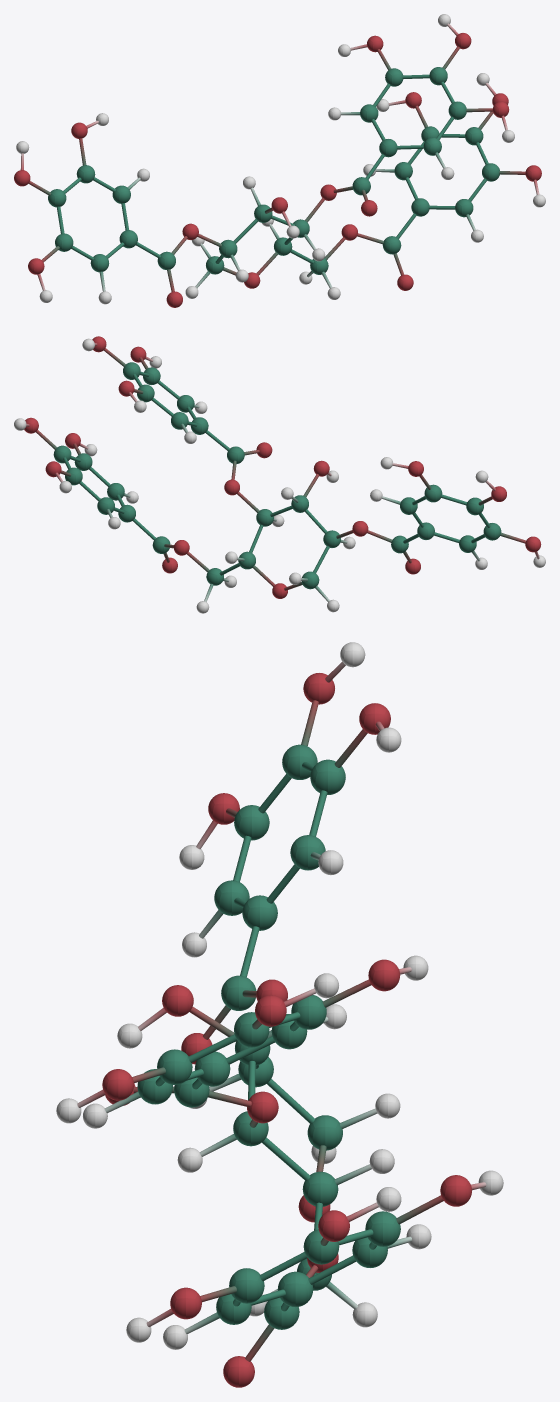
File: Maplexin.fbx
3 renders of one model, top to bottom at view 1: azimuth 30°, elevation 25°; view 2: azimuth 150°, elevation 25°; view 3: azimuth 270°, elevation 25°, orthographic. The views are drawn at different scales.
Visible parts, largest first — view 1: curMeshHyperballExportedMesh; view 2: curMeshHyperballExportedMesh; view 3: curMeshHyperballExportedMesh.
Boxes of the visible parts, x1,y1,x2,y2 form: curMeshHyperballExportedMesh: (14, 14, 545, 307); curMeshHyperballExportedMesh: (14, 336, 545, 613); curMeshHyperballExportedMesh: (56, 642, 503, 1387).
Size of the model in its own units: 17.96 by 8.3 by 7.12.
